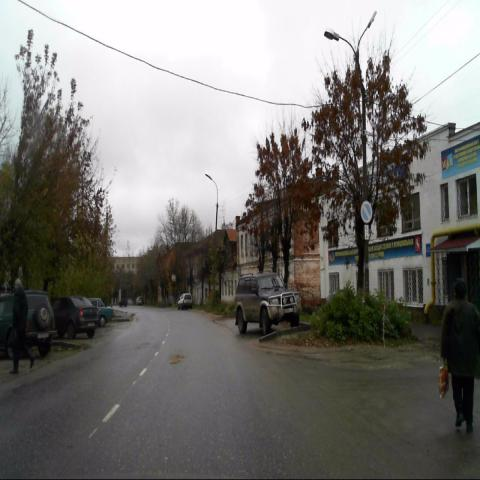3_28: (360, 201, 372, 223)
